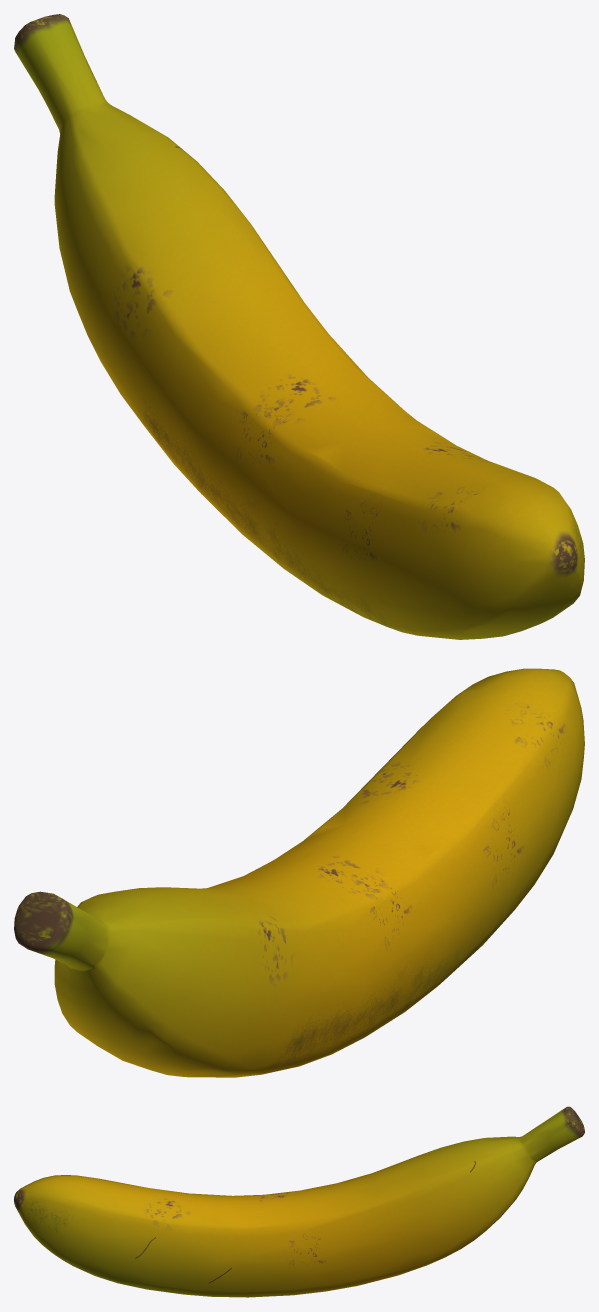
File: banana.glb
3 views of the same model, one above another, from view 1: azimuth 30°, elevation 25°; view 2: azimuth 150°, elevation 25°; view 3: azimuth 270°, elevation 25° (orthographic). The views are drawn at different scales.
Parts seen in each view (by area): view 1: Banana_low; view 2: Banana_low; view 3: Banana_low.
Part boxes in pixels (x1,y1,x2,y2): Banana_low: [14, 14, 584, 639]; Banana_low: [14, 668, 584, 1077]; Banana_low: [14, 1106, 584, 1297].
Bounding box in the file's own units: 0.4506 × 0.918 × 2.62.
Materials: 1 (1 with a texture image).
